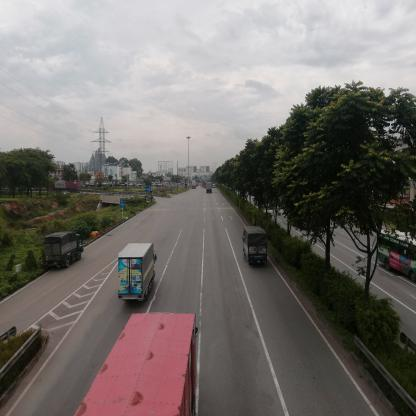bus: (380, 237, 416, 277)
container: (54, 182, 84, 194)
truck: (92, 314, 196, 416), (119, 244, 156, 302), (45, 232, 86, 267), (244, 227, 269, 264)
